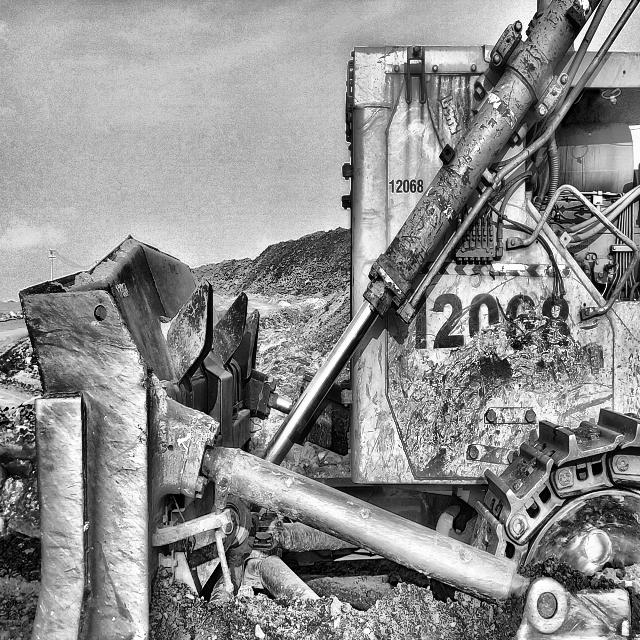buldozerpayloadergrader: (20, 0, 640, 640)
